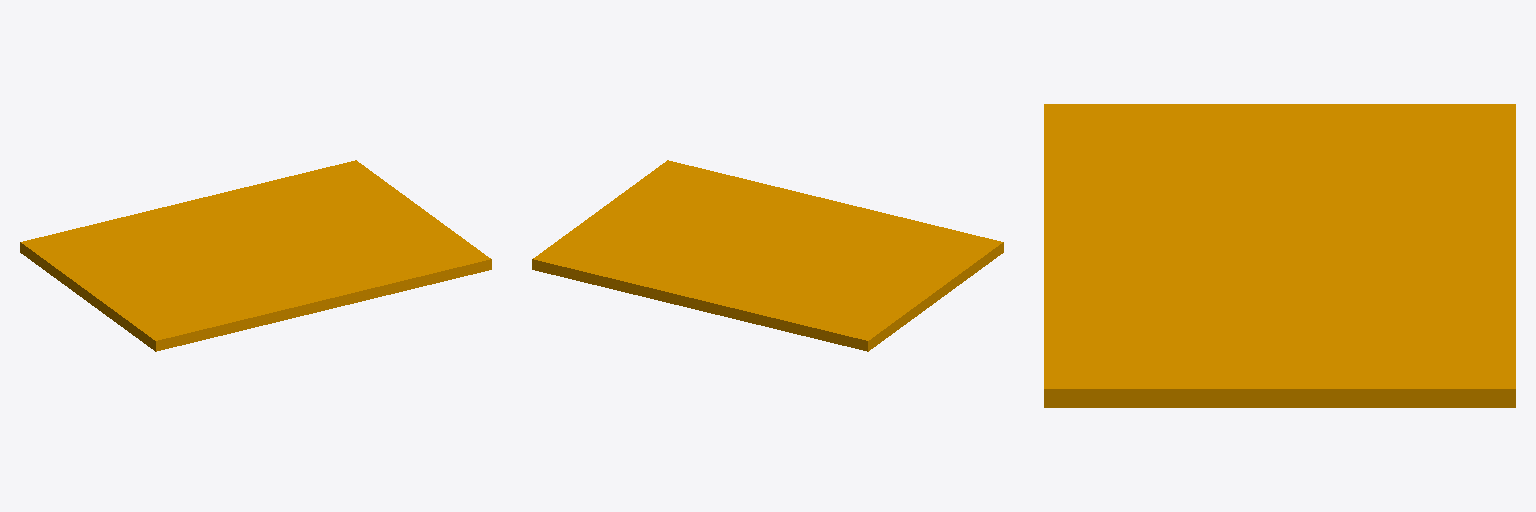
The robot description file, URDF, robot "laptop_base":
<robot name="laptop_base">
<link name="base"><inertial><origin xyz="0.00000 0.00000 0.00540"/><mass value="1.6"/><inertia ixx="8.223e-03" ixy="0" ixz="0" iyy="1.689e-02" iyz="0" izz="2.508e-02"/></inertial>
<visual><origin xyz="0.00000 0.00000 0.00000" rpy="0.00000 0.00000 0.00000"/><geometry><mesh filename="laptop_base_vis.obj"/></geometry></visual>
<collision><origin xyz="0.00000 0.00000 0.00540" rpy="0 0 0"/><geometry><box size="0.35570 0.24810 0.01080"/></geometry></collision>
</link>
</robot>

--- Facts derived from the render (not from the file) ---
The picture shows the robot from 3 angles, left to right: view 1: azimuth 30°, elevation 25°; view 2: azimuth 150°, elevation 25°; view 3: azimuth 270°, elevation 25°; orthographic projection.
Model laptop_base with 1 links and 0 joints (none), rooted at base, posed all joints at 0.
Visible links, largest first — view 1: base; view 2: base; view 3: base.
Boxes of the visible links, x1,y1,x2,y2 form: base: (20,160,491,351); base: (532,160,1003,351); base: (1044,104,1515,407).
Size in the robot's own frame: 0.3557 by 0.2481 by 0.0108 metres.
Meshes: 1 distinct files referenced, 1 mesh visuals loaded (1 OBJ).
